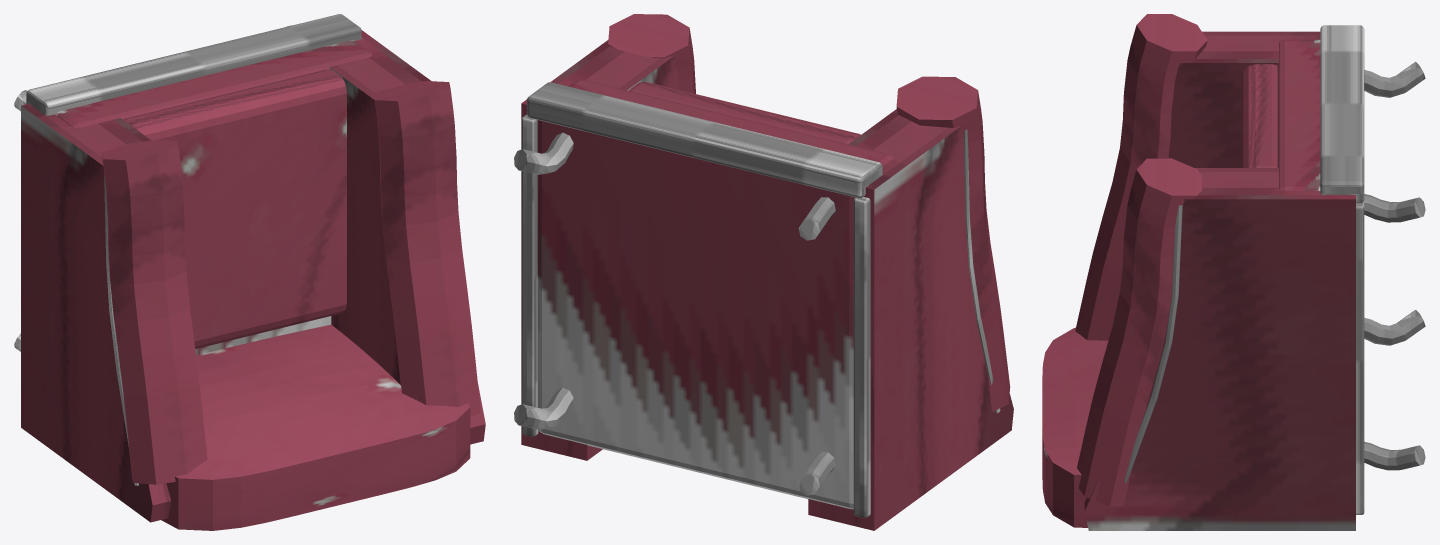
File: pz_chair_seating_indoor_03_victorian_2.obj
3 views of the same model, side by side, from view 1: azimuth 30°, elevation 25°; view 2: azimuth 150°, elevation 25°; view 3: azimuth 270°, elevation 25° (orthographic). The views are drawn at different scales.
Visible parts, largest first — view 1: Victorian_2_|_rounded_seat_cushion_0, Victorian_2_|_closed_curved_padded_back, Victorian_2_|_closed_upholstered_side_-1, Victorian_2_|_EDITABLE_rolled_upholstered_arm_-1, Victorian_2_|_EDITABLE_rolled_upholstered_arm_1, Victorian_2_|_closed_upholstered_side_1, Victorian_2_|_native_front_wooden_apron, Victorian_2_|_closed_upholstered_base, Victorian_2_|_EDITABLE_outside_wood_trim_-1; view 2: Victorian_2_|_closed_upholstered_base, Victorian_2_|_closed_upholstered_side_-1, Victorian_2_|_native_front_wooden_apron, Victorian_2_|_EDITABLE_rolled_upholstered_arm_-1, Victorian_2_|_wood_side_plinth_-0.443, Victorian_2_|_closed_upholstered_side_1, Victorian_2_|_wood_side_plinth_0.443, Victorian_2_|_EDITABLE_rolled_upholstered_arm_1, Victorian_2_|_rounded_seat_cushion_0, Victorian_2_|_EDITABLE_curved_wood_leg_(0.35,_-0.3), Victorian_2_|_EDITABLE_curved_wood_leg_(0.35,_0.35), Victorian_2_|_EDITABLE_outside_wood_trim_-1 (+2 smaller); view 3: Victorian_2_|_closed_upholstered_side_1, Victorian_2_|_EDITABLE_rolled_upholstered_arm_1, Victorian_2_|_EDITABLE_rolled_upholstered_arm_-1, Victorian_2_|_closed_upholstered_side_-1, Victorian_2_|_closed_curved_padded_back, Victorian_2_|_native_front_wooden_apron, Victorian_2_|_closed_upholstered_base, Victorian_2_|_rounded_seat_cushion_0, Victorian_2_|_wood_side_plinth_0.443, Victorian_2_|_EDITABLE_outside_wood_trim_1, Victorian_2_|_EDITABLE_curved_wood_leg_(-0.35,_-0.3), Victorian_2_|_EDITABLE_curved_wood_leg_(-0.35,_0.35) (+2 smaller).
Boxes of the visible parts, x1=… form: Victorian_2_|_rounded_seat_cushion_0: x1=123, y1=69, x2=346, y2=348; Victorian_2_|_closed_curved_padded_back: x1=161, y1=324, x2=470, y2=530; Victorian_2_|_closed_upholstered_side_-1: x1=21, y1=103, x2=207, y2=522; Victorian_2_|_EDITABLE_rolled_upholstered_arm_-1: x1=101, y1=140, x2=207, y2=484; Victorian_2_|_EDITABLE_rolled_upholstered_arm_1: x1=373, y1=81, x2=480, y2=416; Victorian_2_|_closed_upholstered_side_1: x1=329, y1=30, x2=485, y2=444; Victorian_2_|_native_front_wooden_apron: x1=26, y1=14, x2=361, y2=115; Victorian_2_|_closed_upholstered_base: x1=55, y1=40, x2=372, y2=355; Victorian_2_|_EDITABLE_outside_wood_trim_-1: x1=104, y1=174, x2=138, y2=485; Victorian_2_|_closed_upholstered_base: x1=537, y1=79, x2=893, y2=509; Victorian_2_|_closed_upholstered_side_-1: x1=808, y1=109, x2=1013, y2=530; Victorian_2_|_native_front_wooden_apron: x1=527, y1=82, x2=882, y2=198; Victorian_2_|_EDITABLE_rolled_upholstered_arm_-1: x1=896, y1=76, x2=1010, y2=411; Victorian_2_|_wood_side_plinth_-0.443: x1=853, y1=197, x2=870, y2=517; Victorian_2_|_closed_upholstered_side_1: x1=521, y1=40, x2=679, y2=460; Victorian_2_|_wood_side_plinth_0.443: x1=521, y1=114, x2=538, y2=436; Victorian_2_|_EDITABLE_rolled_upholstered_arm_1: x1=608, y1=14, x2=695, y2=93; Victorian_2_|_rounded_seat_cushion_0: x1=629, y1=82, x2=860, y2=144; Victorian_2_|_EDITABLE_curved_wood_leg_(0.35,_-0.3): x1=514, y1=387, x2=573, y2=429; Victorian_2_|_EDITABLE_curved_wood_leg_(0.35,_0.35): x1=514, y1=132, x2=573, y2=174; Victorian_2_|_EDITABLE_outside_wood_trim_-1: x1=963, y1=129, x2=1000, y2=413; Victorian_2_|_closed_upholstered_side_1: x1=1084, y1=168, x2=1355, y2=530; Victorian_2_|_EDITABLE_rolled_upholstered_arm_1: x1=1077, y1=158, x2=1201, y2=506; Victorian_2_|_EDITABLE_rolled_upholstered_arm_-1: x1=1075, y1=14, x2=1207, y2=340; Victorian_2_|_closed_upholstered_side_-1: x1=1100, y1=31, x2=1320, y2=340; Victorian_2_|_closed_curved_padded_back: x1=1042, y1=327, x2=1108, y2=527; Victorian_2_|_native_front_wooden_apron: x1=1320, y1=25, x2=1364, y2=203; Victorian_2_|_closed_upholstered_base: x1=1277, y1=39, x2=1320, y2=190; Victorian_2_|_rounded_seat_cushion_0: x1=1241, y1=64, x2=1277, y2=167; Victorian_2_|_wood_side_plinth_0.443: x1=1356, y1=202, x2=1364, y2=514; Victorian_2_|_EDITABLE_outside_wood_trim_1: x1=1124, y1=205, x2=1182, y2=483; Victorian_2_|_EDITABLE_curved_wood_leg_(-0.35,_-0.3): x1=1364, y1=310, x2=1425, y2=345; Victorian_2_|_EDITABLE_curved_wood_leg_(-0.35,_0.35): x1=1364, y1=62, x2=1425, y2=97.
Size of the model in its own units: 0.9794 by 0.9446 by 0.9106.
Materials: 1 (1 with a texture image).
